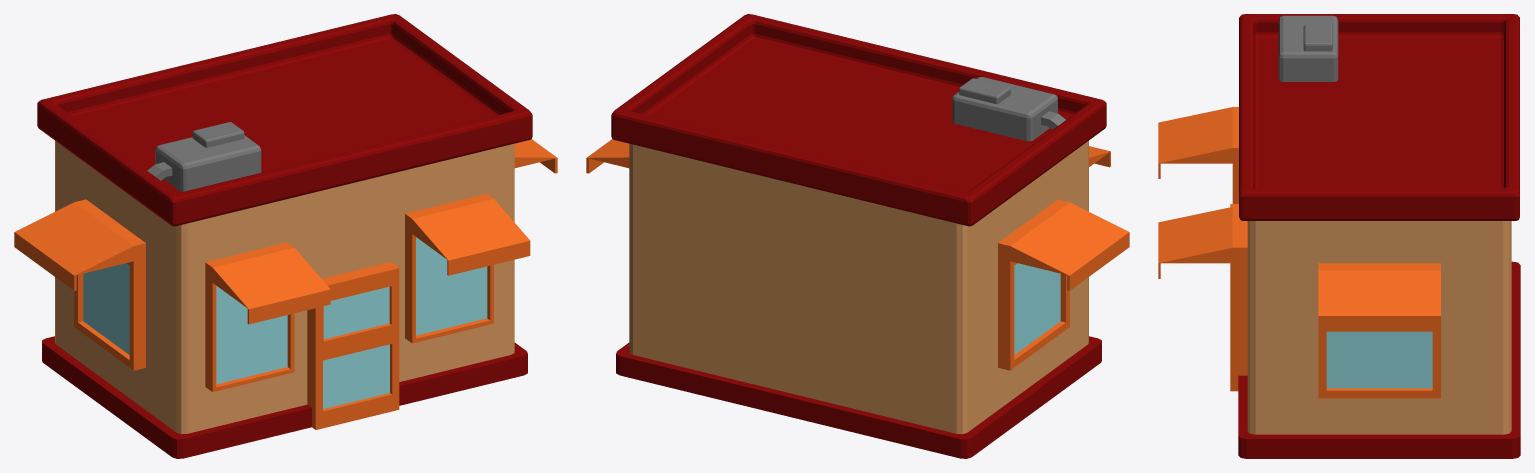
Rendered from predio_lanchonete.fbx.
3 views of the same model, side by side, from view 1: azimuth 30°, elevation 25°; view 2: azimuth 150°, elevation 25°; view 3: azimuth 270°, elevation 25° (orthographic). The views are drawn at different scales.
Visible parts, largest first — view 1: Loja; view 2: Loja; view 3: Loja.
Part boxes in pixels (x1,y1,x2,y2): Loja: (14, 14, 557, 458); Loja: (586, 14, 1129, 458); Loja: (1158, 14, 1520, 458).
Size of the model in its own units: 695 by 386 by 440.
